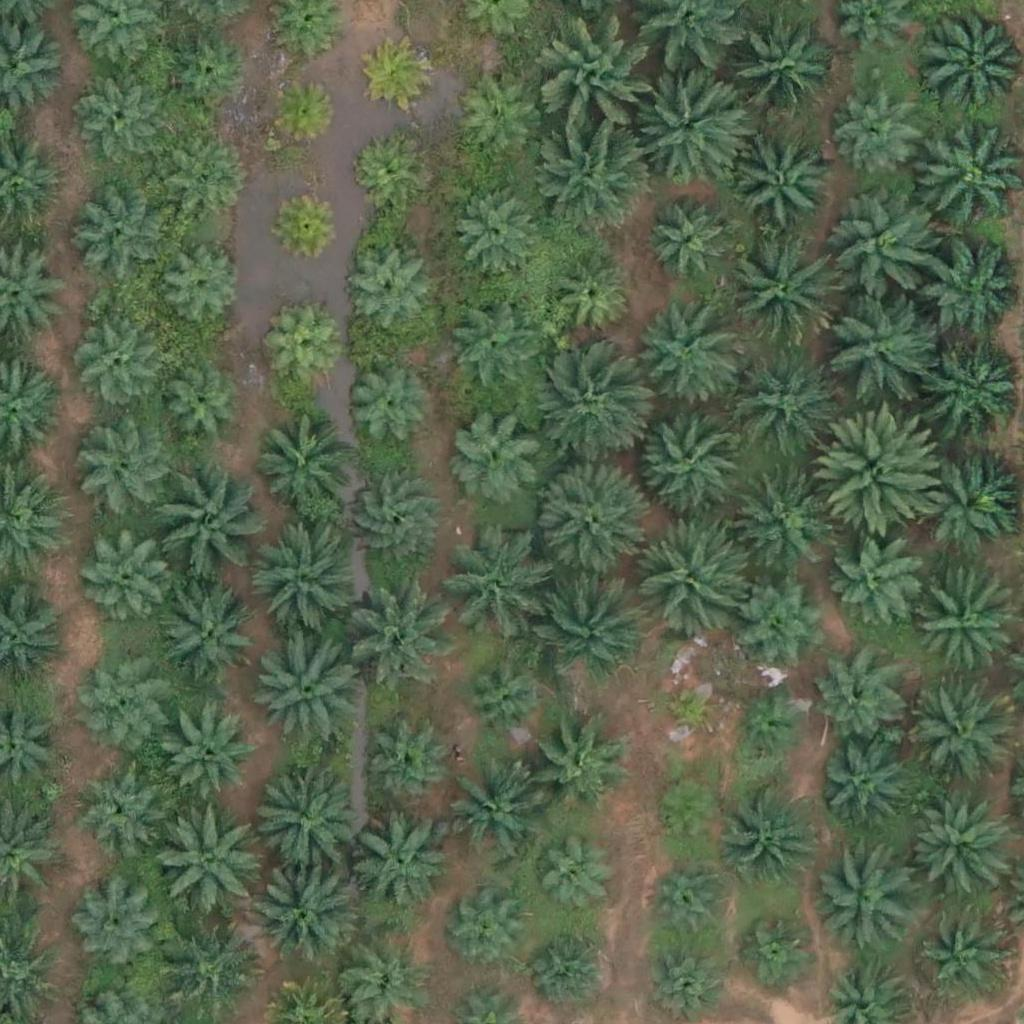Kelapa_Sawit: (819, 409, 944, 535), (821, 287, 934, 401), (245, 630, 358, 744), (722, 16, 835, 130), (723, 235, 836, 348), (727, 347, 840, 460), (634, 402, 747, 515), (531, 463, 644, 576), (250, 857, 363, 970), (242, 761, 355, 874), (538, 120, 651, 233), (828, 193, 941, 306), (531, 565, 643, 679), (248, 526, 360, 640), (150, 803, 262, 917), (544, 24, 656, 138), (627, 303, 739, 416), (632, 520, 744, 633), (529, 354, 641, 467), (342, 571, 454, 684), (146, 465, 258, 578), (634, 67, 746, 180), (914, 576, 1014, 677), (909, 688, 1009, 789), (905, 796, 1005, 897), (731, 468, 831, 569), (733, 569, 833, 670), (525, 717, 625, 818), (439, 766, 539, 867), (439, 538, 539, 639), (349, 814, 449, 915), (252, 414, 352, 515), (155, 582, 255, 683), (157, 919, 257, 1020), (76, 419, 176, 520), (734, 132, 834, 233), (72, 183, 172, 284), (724, 783, 824, 884), (923, 246, 1023, 346), (913, 446, 1013, 546), (816, 848, 916, 948), (446, 404, 546, 504), (344, 472, 444, 572), (813, 656, 901, 744), (546, 253, 634, 341), (460, 655, 548, 743), (341, 246, 429, 334), (167, 715, 255, 803), (69, 883, 157, 971), (67, 318, 155, 406), (163, 26, 251, 114), (163, 144, 251, 232), (646, 198, 734, 286), (454, 77, 542, 165), (74, 74, 162, 162), (816, 743, 903, 832), (446, 303, 533, 392), (923, 914, 1010, 1002), (831, 536, 918, 624), (648, 858, 735, 946), (343, 362, 430, 450), (365, 724, 452, 812), (159, 242, 246, 330), (156, 366, 243, 454), (70, 761, 157, 849), (79, 649, 166, 737), (82, 534, 169, 622), (837, 92, 924, 180), (453, 186, 540, 274), (348, 132, 423, 208), (531, 841, 606, 917), (533, 929, 608, 1005), (732, 689, 807, 765), (651, 776, 726, 852), (265, 312, 340, 388), (270, 185, 345, 261), (363, 36, 438, 112), (739, 911, 814, 986), (451, 896, 526, 971), (265, 75, 340, 150), (658, 677, 720, 740)
